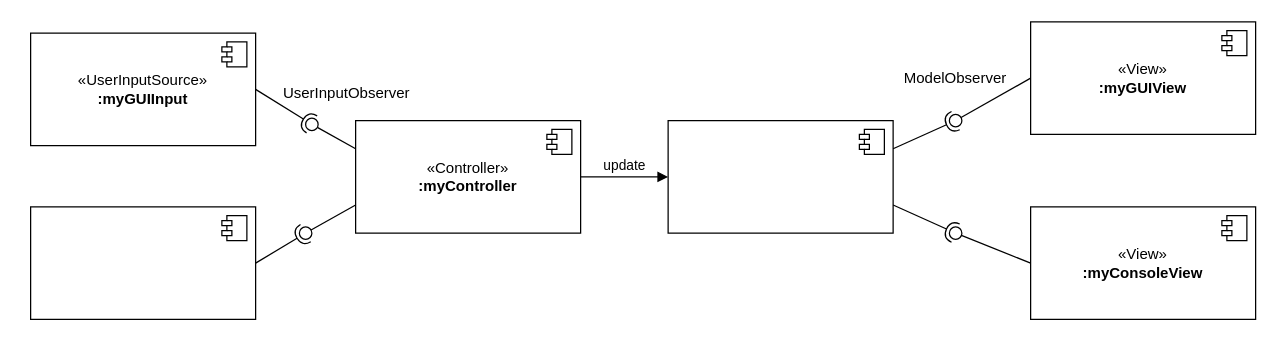
The diagram is 1278 pixels wide and 341 high, and some of its shapes have lost their labels. The shapes that lost their labels are listed below. From the top down, each one's box as (x1, y1, x2, y2) in pixels, then its label:
(667, 119, 893, 233): «Model» :myModel
(29, 206, 256, 319): «UserInputSource» :myConsoleIInput
